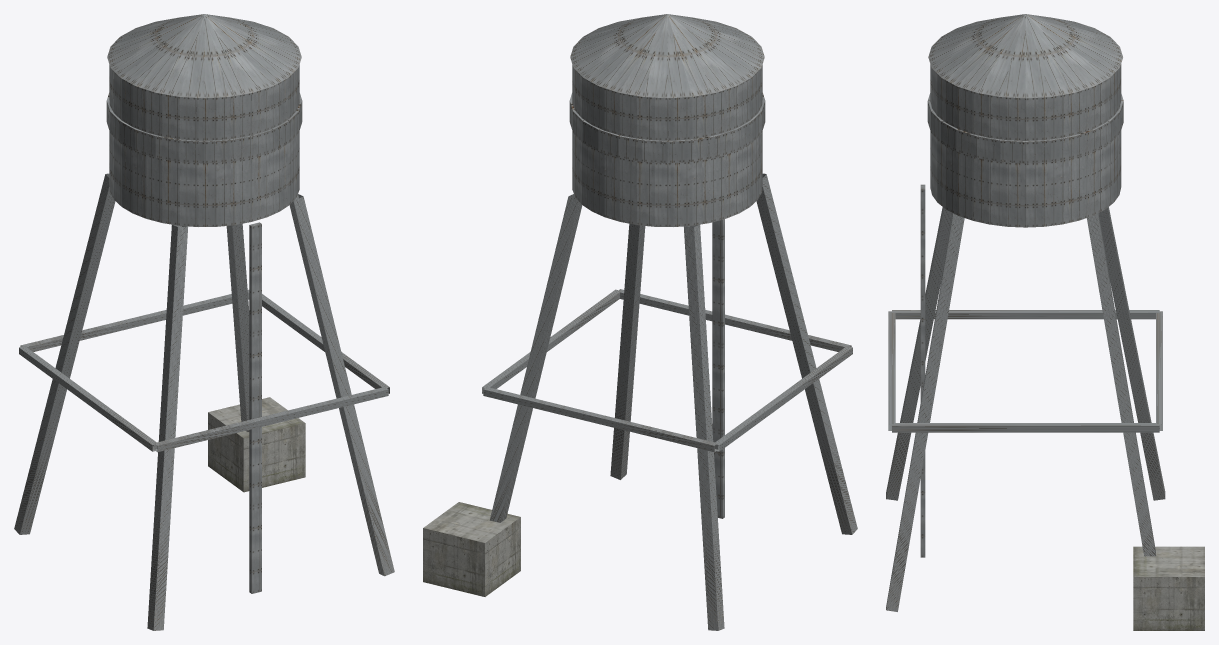
File: water-tower-rural_lod0.gltf
3 views of the same model, side by side, from view 1: azimuth 30°, elevation 25°; view 2: azimuth 150°, elevation 25°; view 3: azimuth 270°, elevation 25° (orthographic).
Visible parts, largest first — view 1: water-tower-rural_legs, water-tower-rural_tank, water-tower-rural_cap, water-tower-rural__valve_house, water-tower-rural__name_band, water-tower-rural__ladder; view 2: water-tower-rural_legs, water-tower-rural_tank, water-tower-rural_cap, water-tower-rural__valve_house, water-tower-rural__name_band, water-tower-rural__ladder; view 3: water-tower-rural_legs, water-tower-rural_tank, water-tower-rural_cap, water-tower-rural__valve_house, water-tower-rural__name_band, water-tower-rural__ladder.
Boxes of the visible parts, left/top/right/bottom form: water-tower-rural_legs: left=14, top=173, right=394, bottom=630; water-tower-rural_tank: left=109, top=65, right=299, bottom=226; water-tower-rural_cap: left=107, top=14, right=301, bottom=98; water-tower-rural__valve_house: left=208, top=397, right=305, bottom=492; water-tower-rural__name_band: left=106, top=93, right=302, bottom=163; water-tower-rural__ladder: left=249, top=222, right=261, bottom=593; water-tower-rural_legs: left=482, top=173, right=857, bottom=630; water-tower-rural_tank: left=572, top=65, right=762, bottom=226; water-tower-rural_cap: left=570, top=14, right=764, bottom=98; water-tower-rural__valve_house: left=423, top=502, right=520, bottom=596; water-tower-rural__name_band: left=569, top=93, right=765, bottom=163; water-tower-rural__ladder: left=712, top=219, right=724, bottom=518; water-tower-rural_legs: left=886, top=207, right=1165, bottom=611; water-tower-rural_tank: left=930, top=64, right=1121, bottom=227; water-tower-rural_cap: left=928, top=14, right=1122, bottom=98; water-tower-rural__valve_house: left=1133, top=546, right=1204, bottom=630; water-tower-rural__name_band: left=927, top=93, right=1123, bottom=163; water-tower-rural__ladder: left=920, top=184, right=925, bottom=557.
Bounding box in the file's own units: 13.35 × 25 × 13.35.
